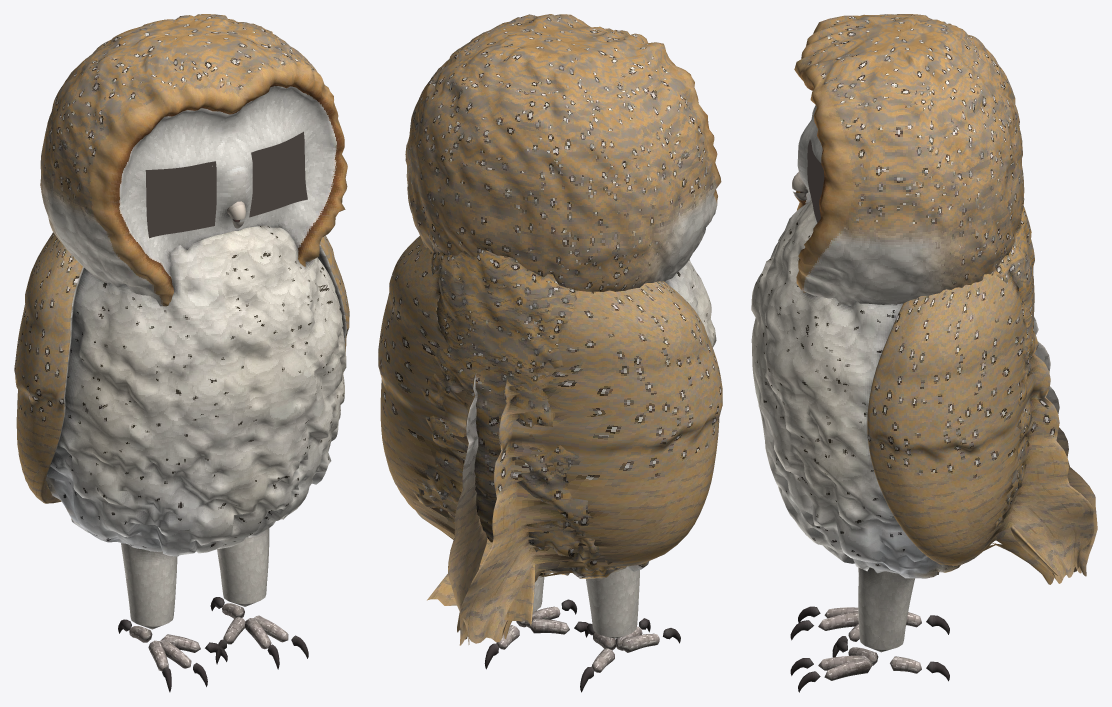
File: barn.glb
3 views of the same model, side by side, from view 1: azimuth 30°, elevation 25°; view 2: azimuth 150°, elevation 25°; view 3: azimuth 270°, elevation 25° (orthographic). The views are drawn at different scales.
Visible parts, largest first — view 1: body_mesh, head_mesh, wing_l_mesh, eye_l, leg_l_mesh, eye_r, leg_r_mesh, wing_r_mesh; view 2: head_mesh, wing_l_mesh, body_mesh, wing_r_mesh, leg_l_mesh, tail_mesh; view 3: head_mesh, wing_r_mesh, body_mesh, leg_r_mesh, wing_l_mesh, eye_r, leg_rt0_mesh.
Boxes of the visible parts, <box> form: body_mesh: <box>45,225,346,556</box>; head_mesh: <box>40,14,347,306</box>; wing_l_mesh: <box>14,232,83,503</box>; eye_l: <box>145,161,216,238</box>; leg_l_mesh: <box>121,543,177,629</box>; eye_r: <box>249,131,307,217</box>; leg_r_mesh: <box>217,528,269,606</box>; wing_r_mesh: <box>318,235,349,373</box>; head_mesh: <box>405,14,721,291</box>; wing_l_mesh: <box>459,281,722,645</box>; body_mesh: <box>413,250,716,578</box>; wing_r_mesh: <box>378,236,487,644</box>; leg_l_mesh: <box>586,568,639,638</box>; tail_mesh: <box>427,538,535,625</box>; head_mesh: <box>794,14,1024,306</box>; wing_r_mesh: <box>867,271,1093,584</box>; body_mesh: <box>751,197,1034,578</box>; leg_r_mesh: <box>858,567,914,652</box>; wing_l_mesh: <box>1034,317,1097,576</box>; eye_r: <box>807,139,824,222</box>; leg_rt0_mesh: <box>824,658,872,680</box>.
Bounding box in the file's own units: 25.99 × 47.45 × 23.99.
2 materials, 1 textured.
